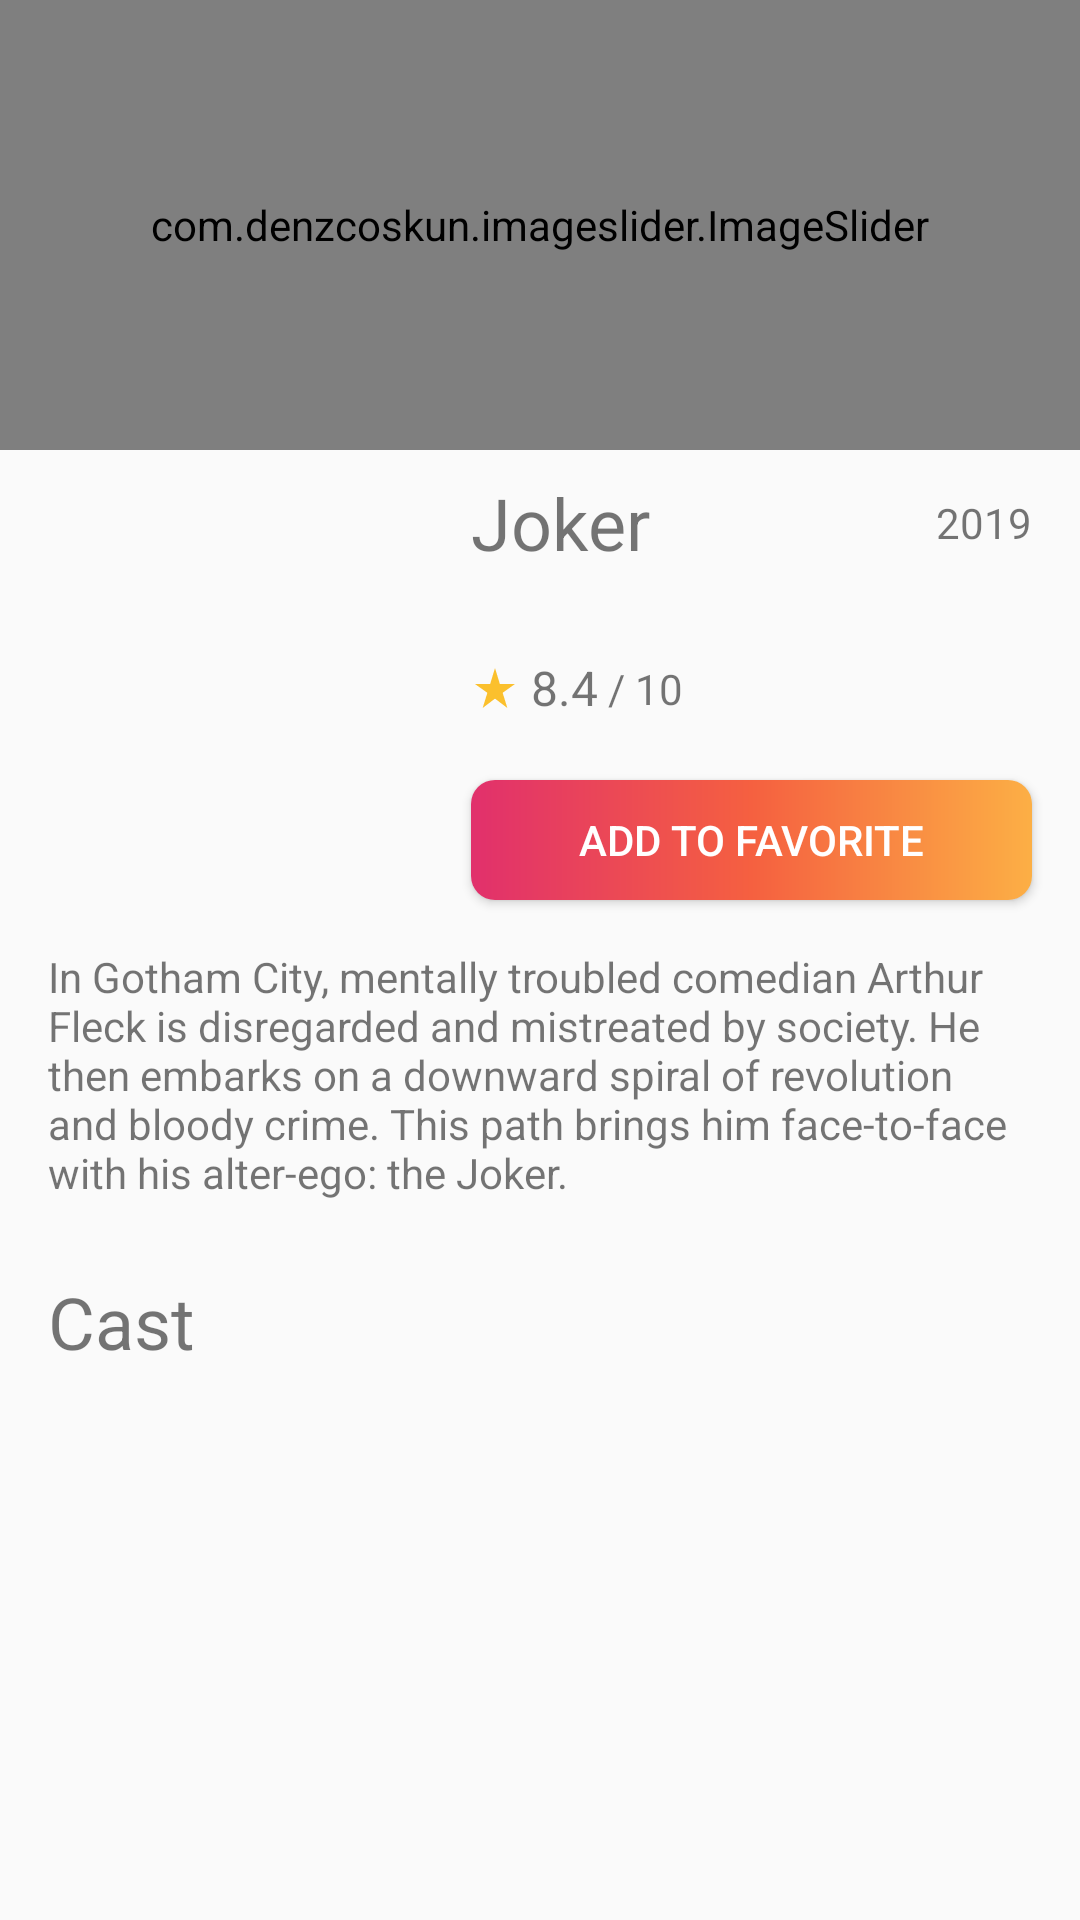

Screen size 1080*1920. Icon name, then its box in pixels as (x1, y1, x2, y2):
star rate: (475, 668, 515, 708)
